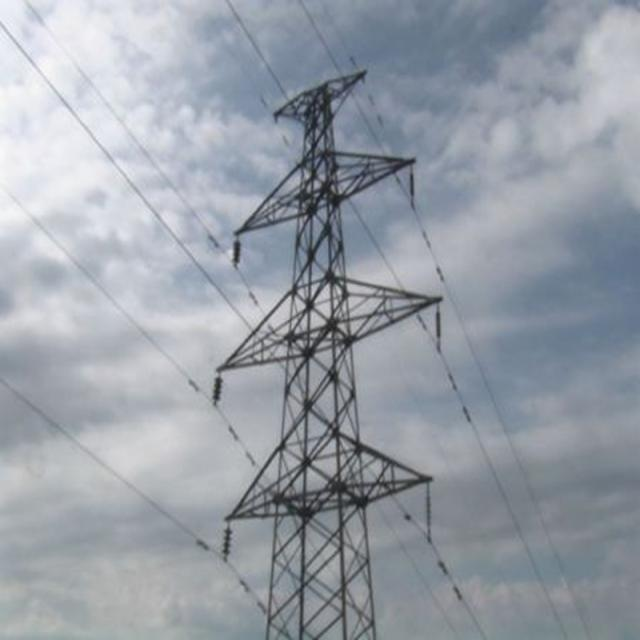non-critical vegetation: (189, 57, 437, 635)
